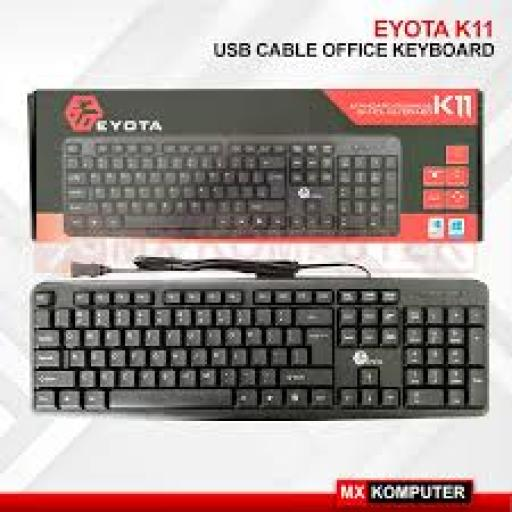keyboard: (32, 278, 487, 419)
